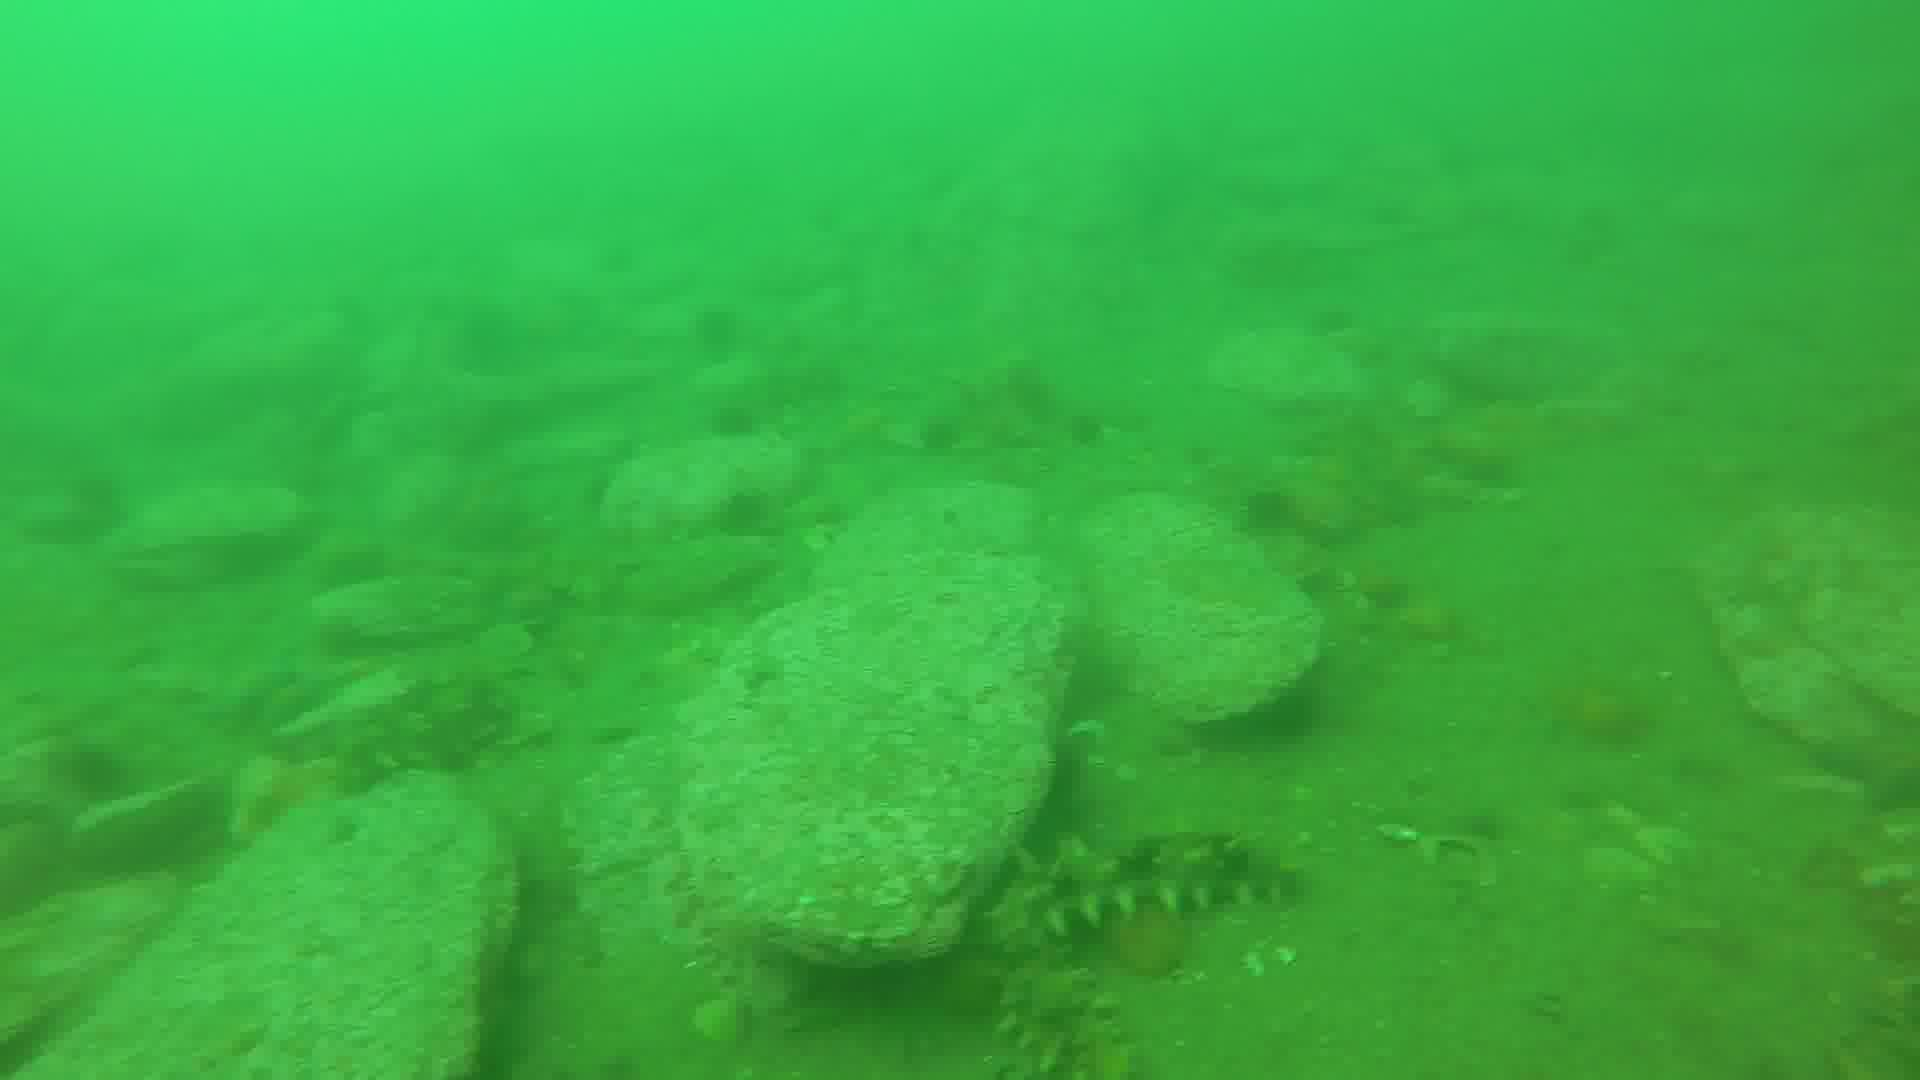echinus: (1238, 480, 1303, 530), (715, 492, 775, 538), (919, 407, 961, 458)
holothurian: (971, 837, 1298, 1080), (324, 673, 531, 804)
